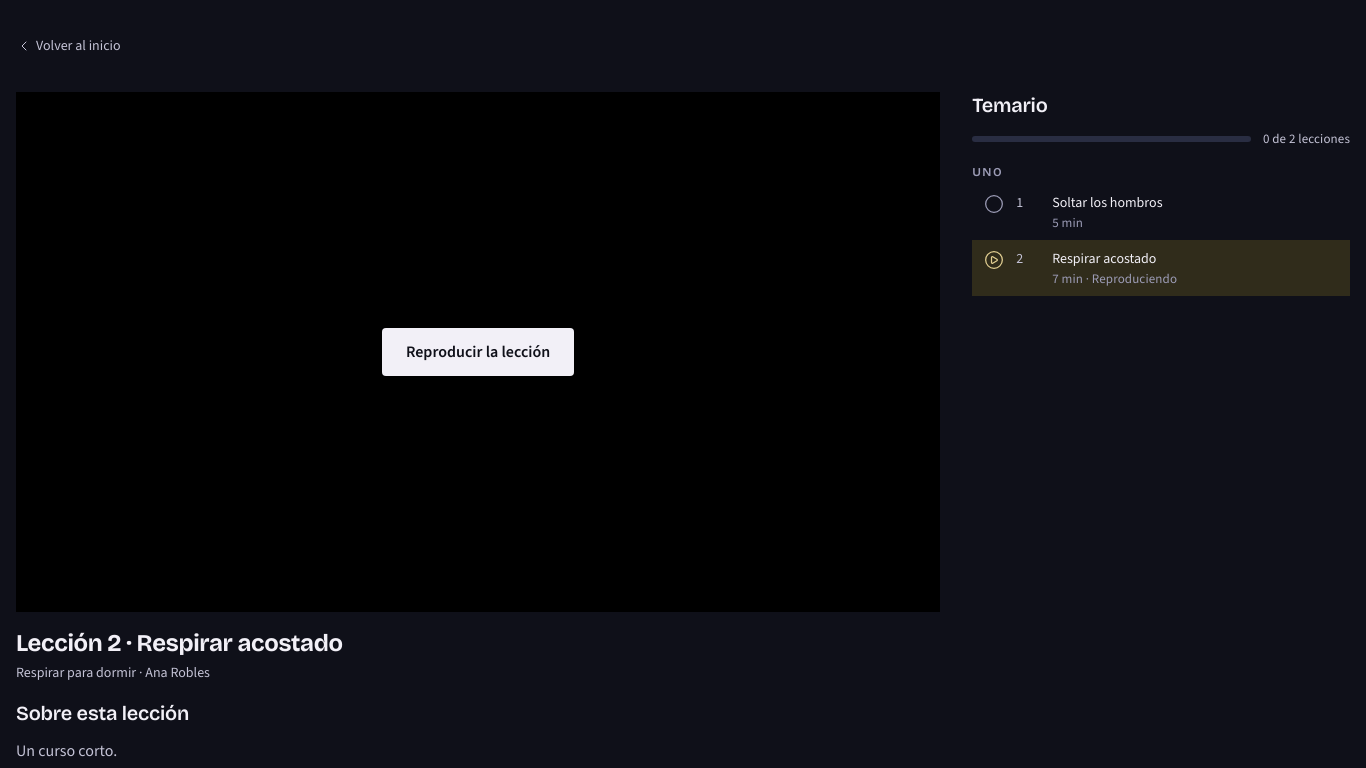
Test: PA-34: la cuenta ya reproduce en otro lugar (T-204, RF-107) › de la lección o del curso, el que se sepa
This screenshot has width=1366, height=768.
Click the button "Reproducir la lección" at (478, 352), box [382, 328, 574, 376]
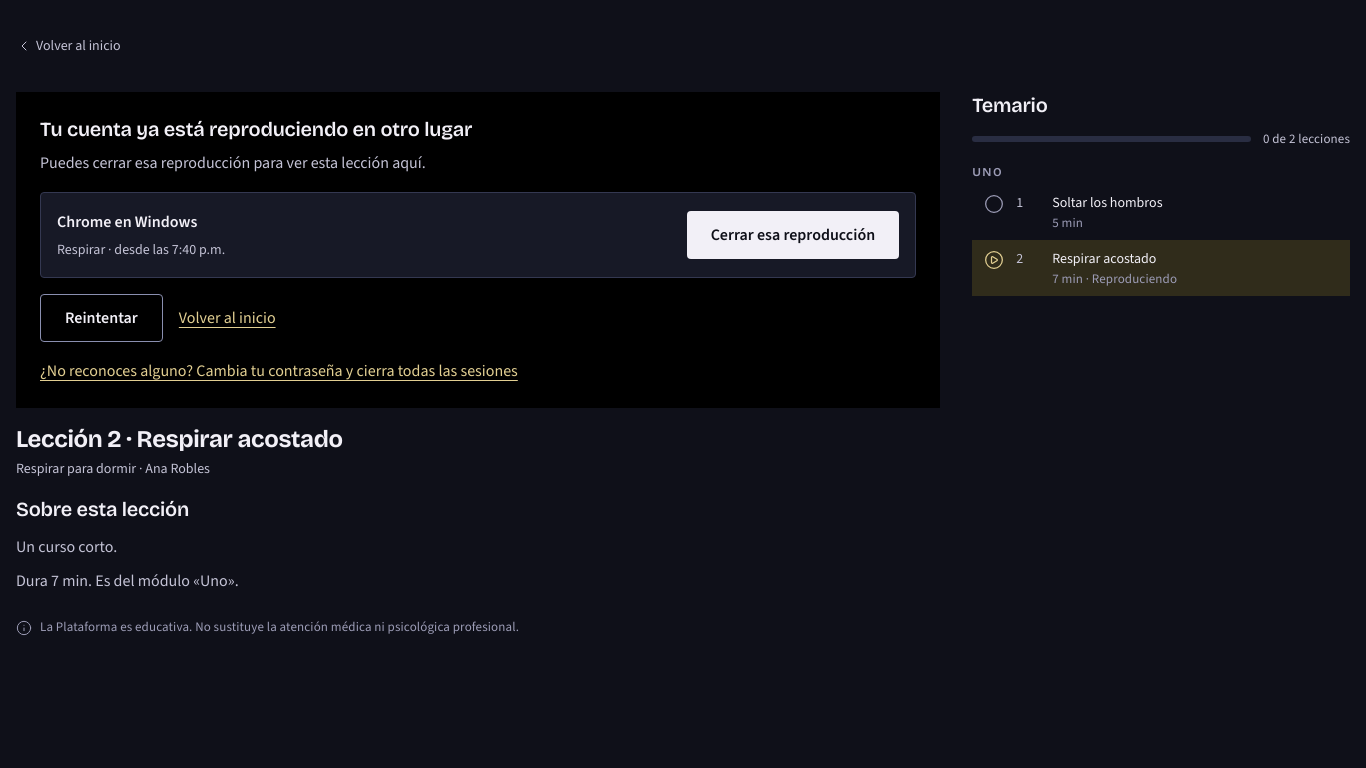
Check: the text "Respirar · desde las 7:40 p.m." is shown, box [57, 239, 225, 261]
